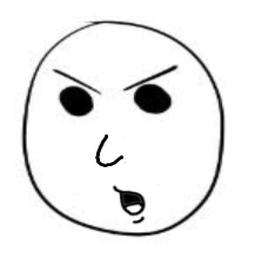eye: (133, 81, 177, 117), (55, 84, 93, 119)
frowning_eyebrow: (122, 65, 181, 94), (48, 68, 101, 93)
nose: (92, 130, 126, 169)
open_mouth: (111, 185, 151, 224)
